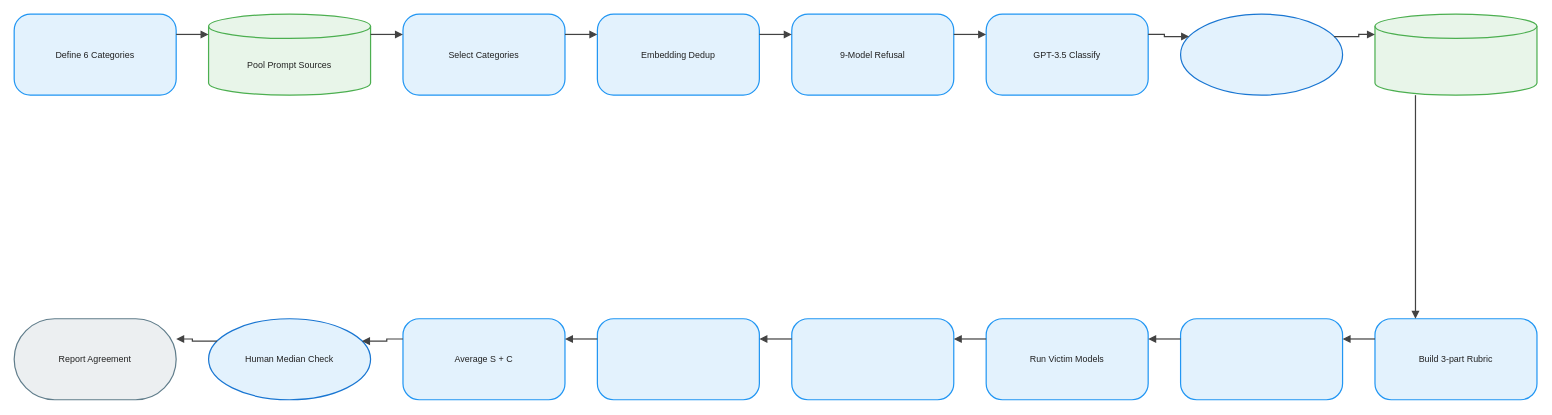
Image size: 1552x415. Some labels were removed from this diagram. The box of each missing label's shape, as (x1, y1, x2, y2) in pixels:
Freeze 313: (1374, 13, 1537, 95)
GPT-4o-mini Grade: (791, 318, 954, 400)
Manual Safety Filter: (1180, 13, 1343, 95)
Rescale / Zero: (596, 318, 760, 400)
Train Gemma 2B: (1180, 318, 1343, 400)
